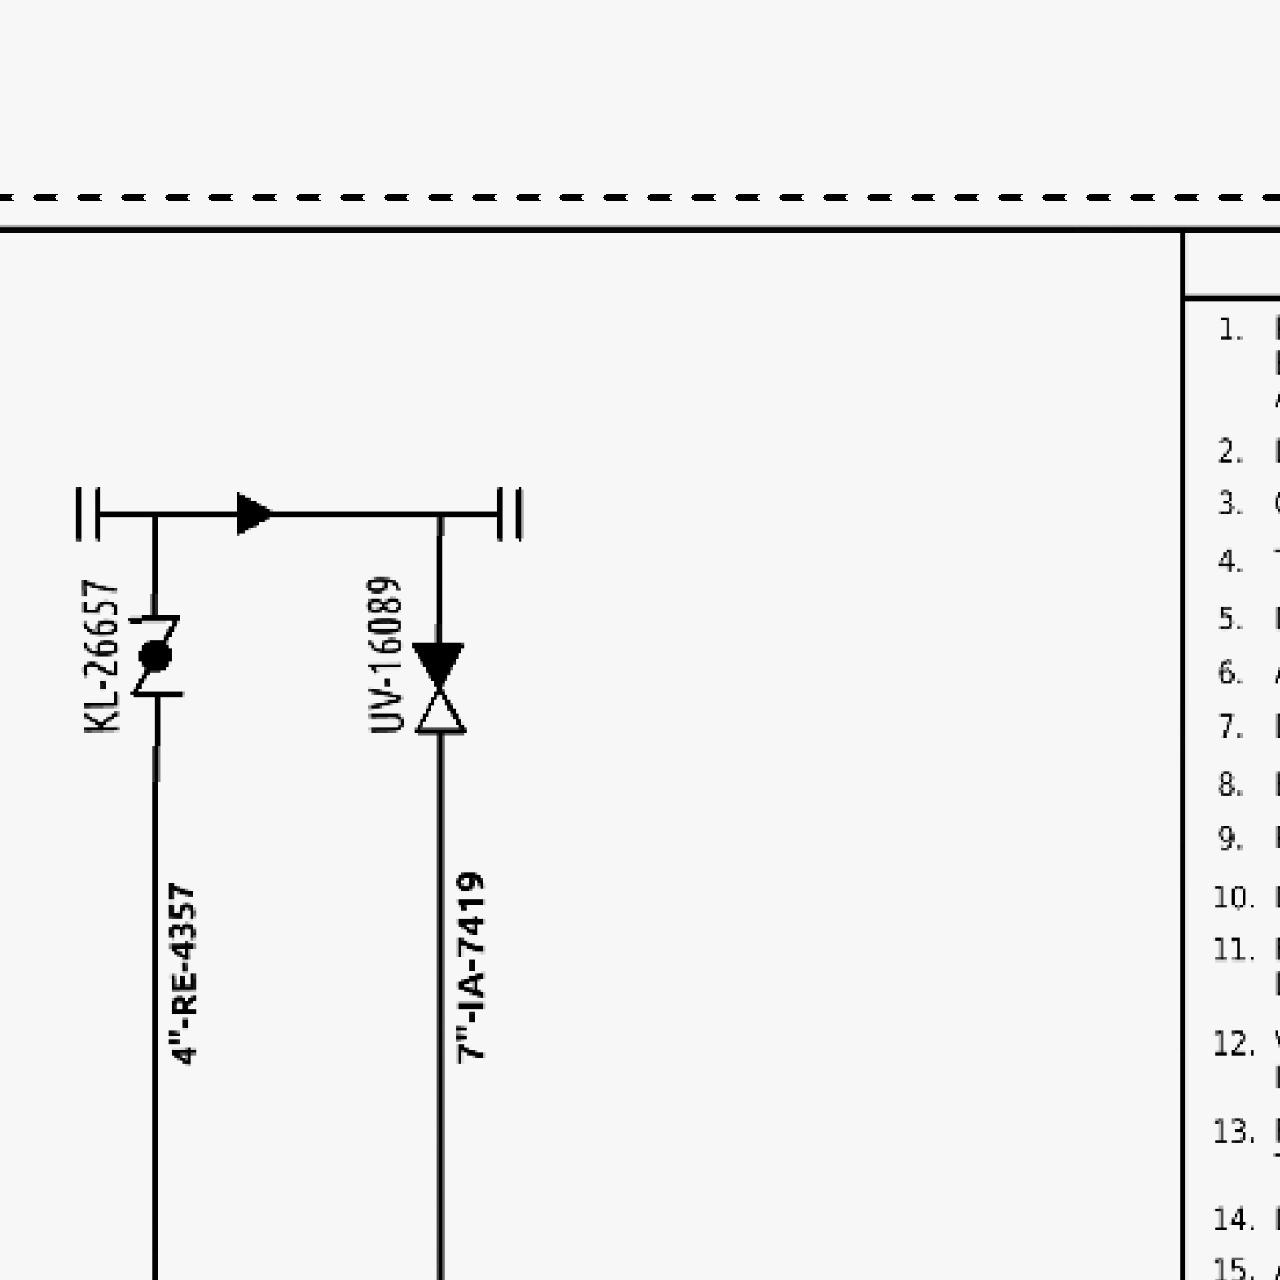Half closed valve: (407, 636, 469, 737)
